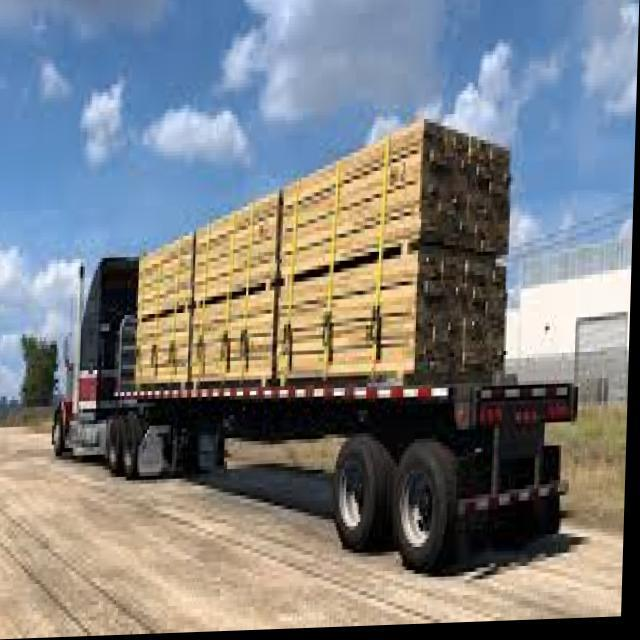uncovered: (51, 118, 578, 580)
